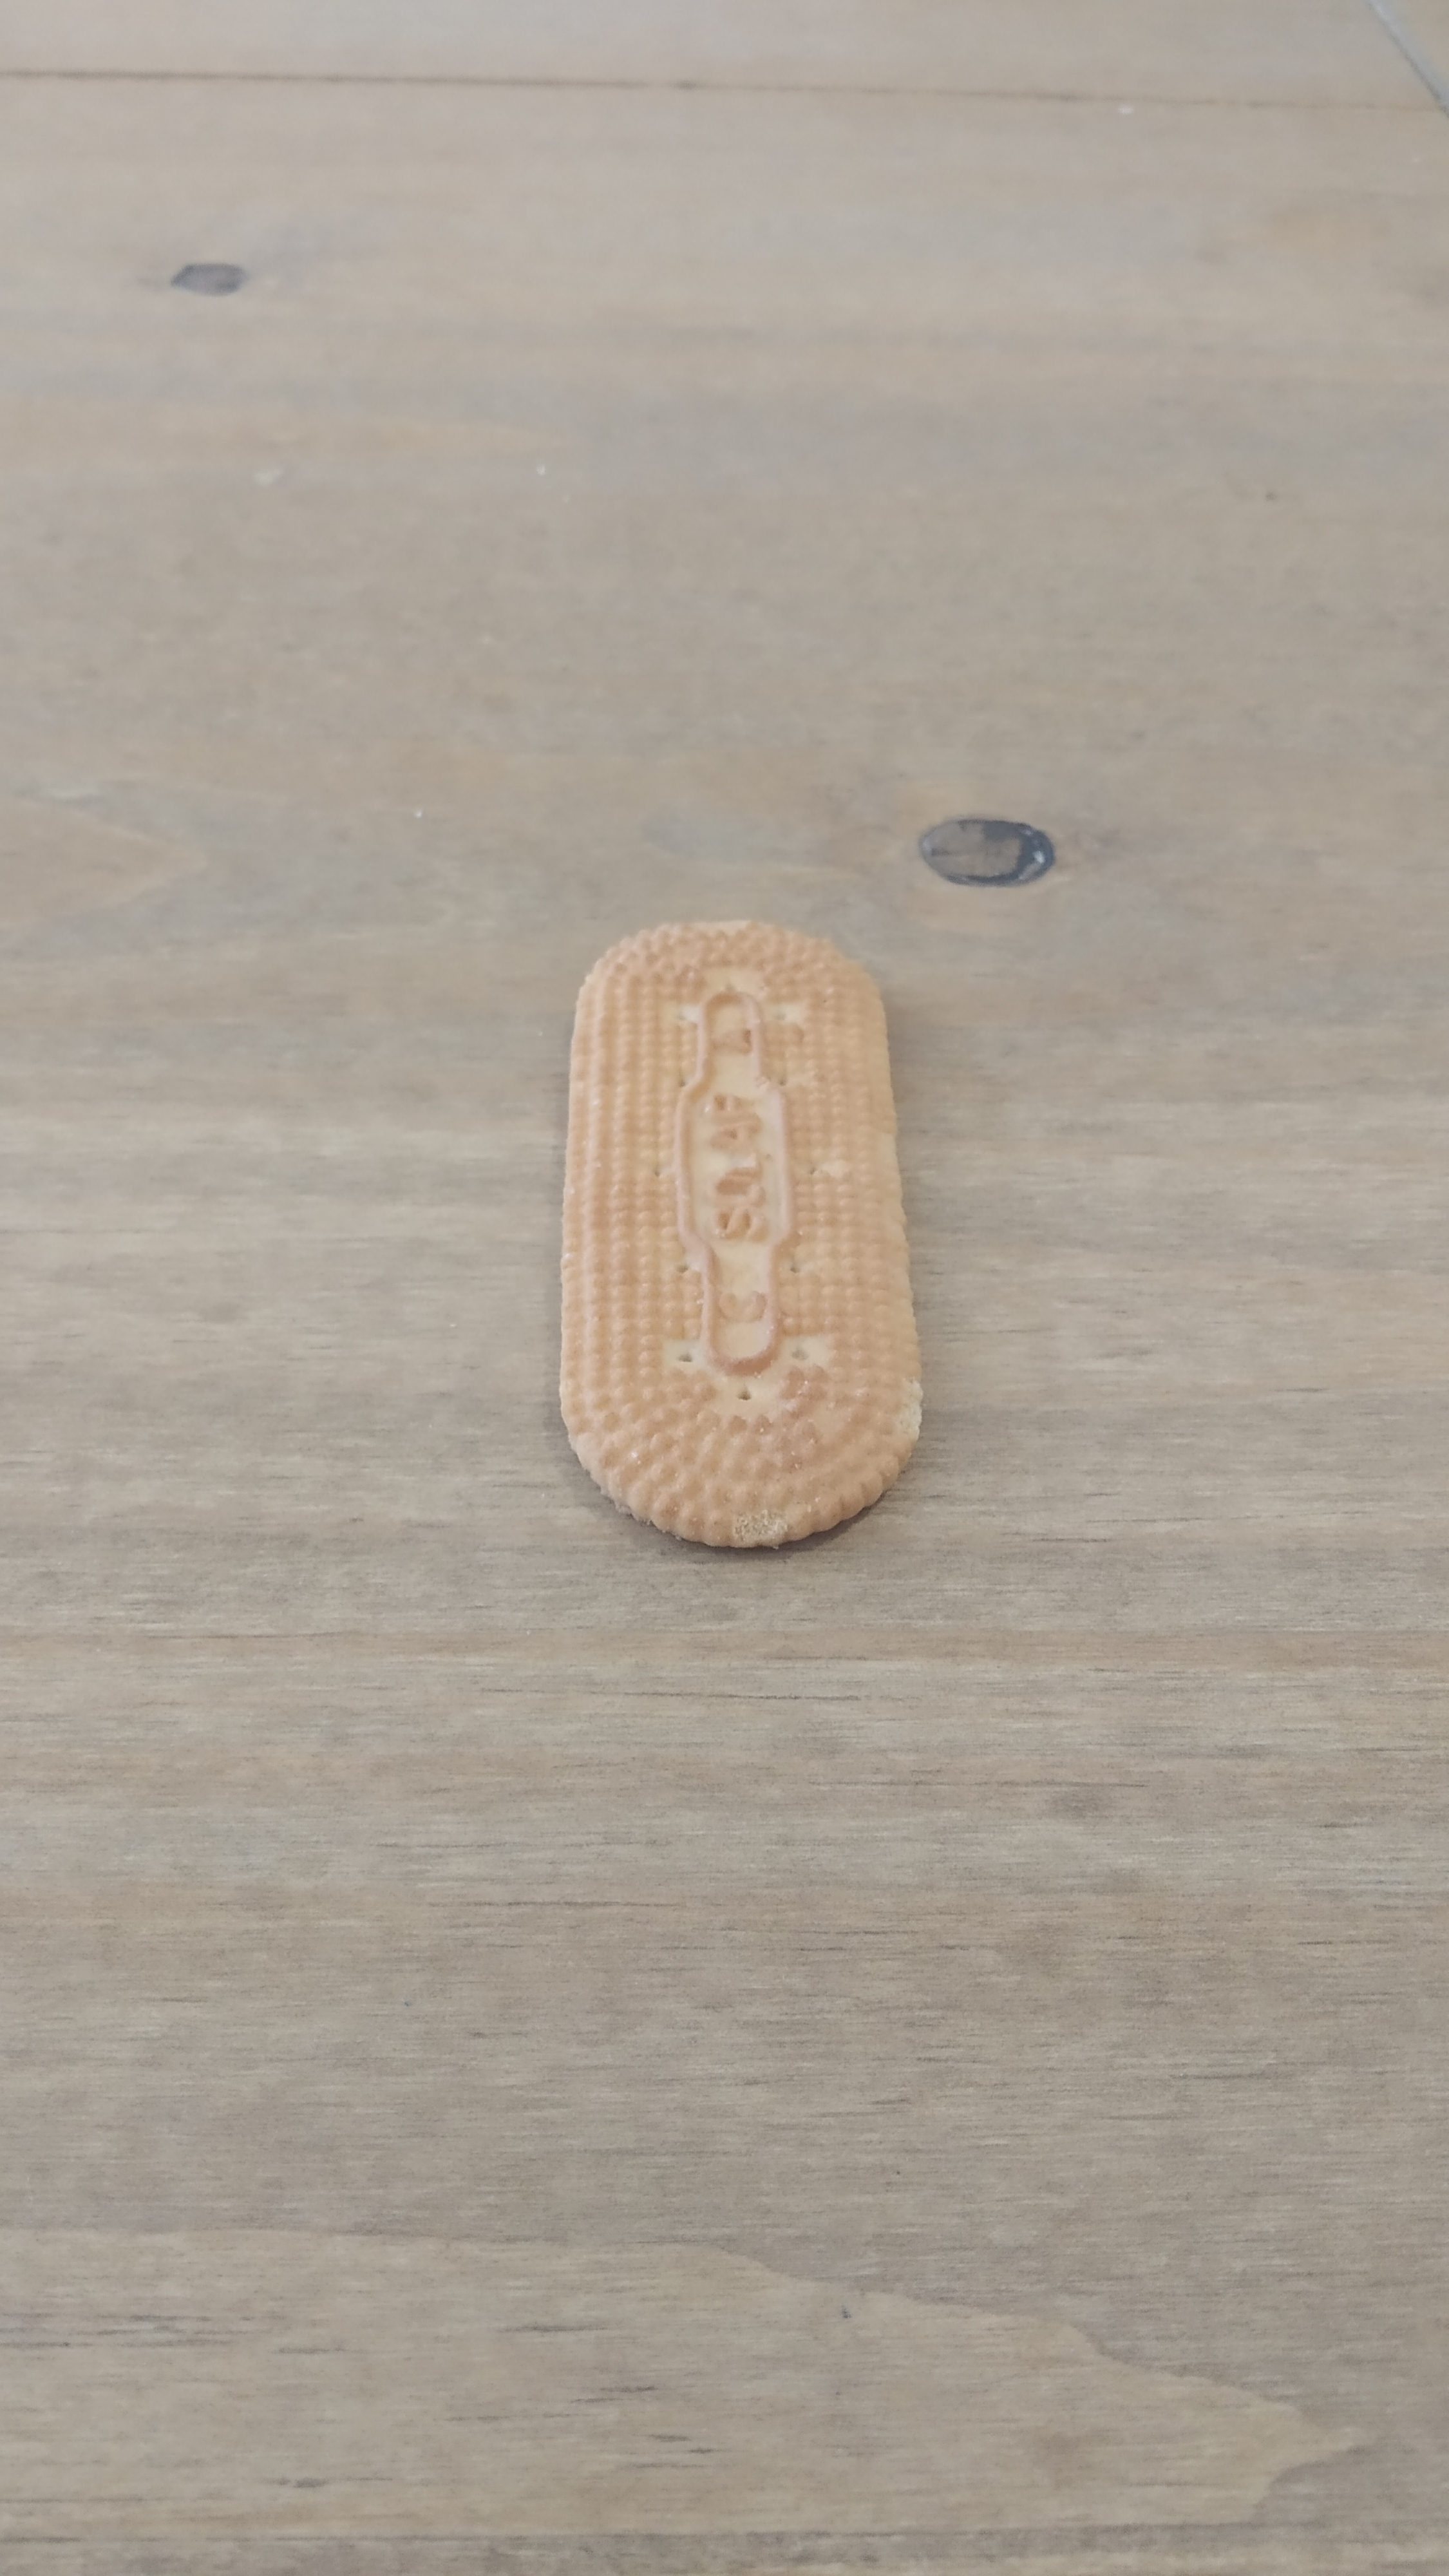solar: (561, 922, 922, 1548)
